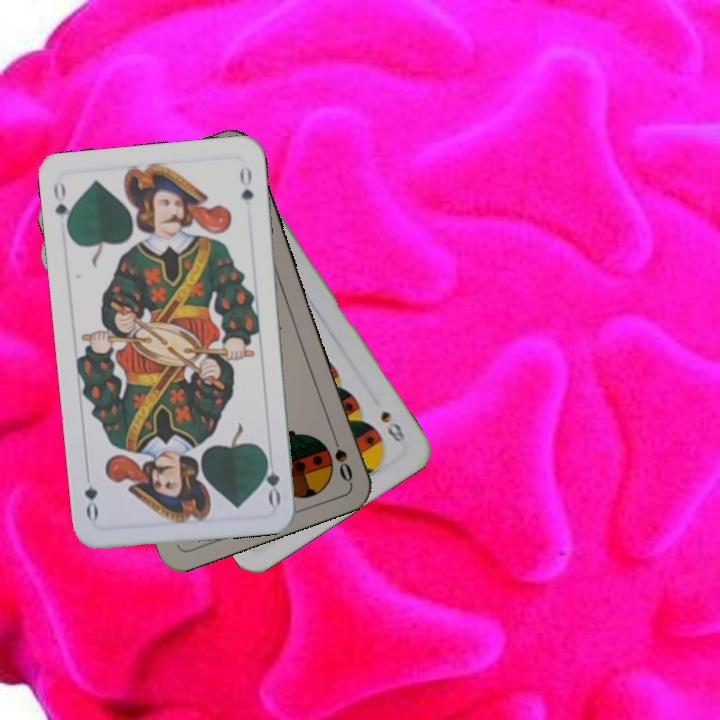GO: (49, 177, 75, 236), (259, 448, 283, 508)
S8: (376, 406, 408, 445)
SO: (327, 427, 356, 485)
